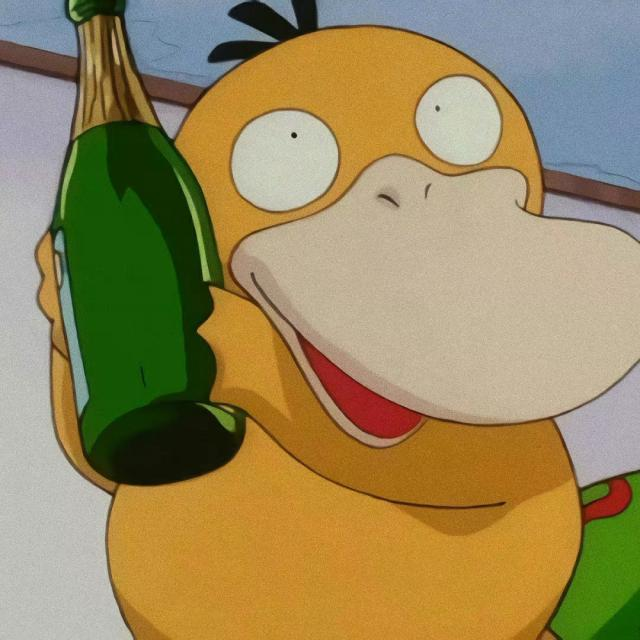Duck: (59, 21, 630, 639)
